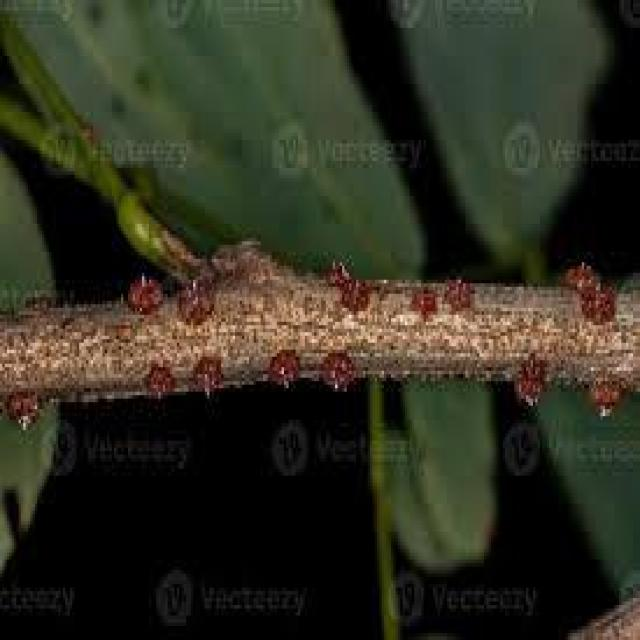Black Scale: (561, 259, 617, 333), (326, 256, 375, 311), (587, 365, 626, 422), (176, 270, 213, 325), (512, 353, 549, 407), (191, 351, 228, 402), (126, 270, 161, 316), (321, 350, 356, 393), (268, 349, 298, 391), (5, 392, 37, 427), (144, 360, 175, 395)
